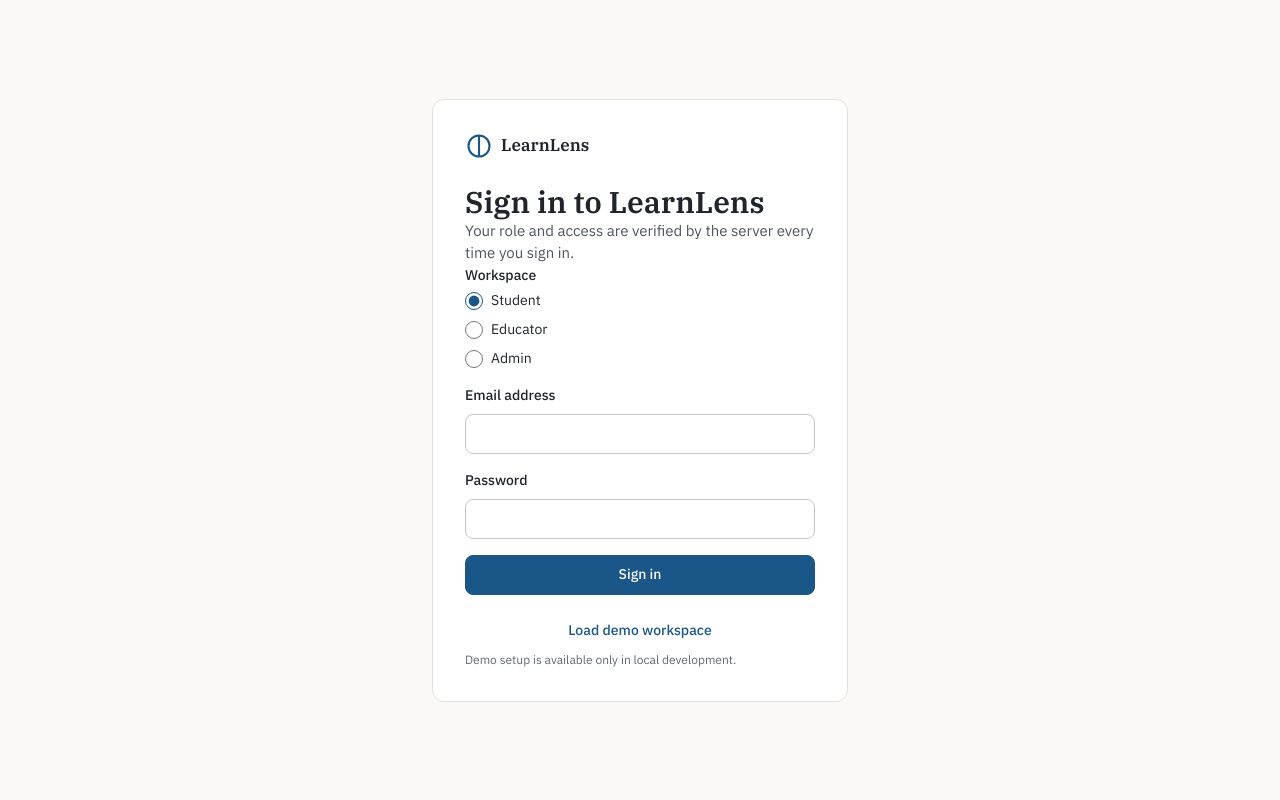
uses loopback bootstrap only after the demo credentials return 401
Click the button "Load demo workspace".
click(640, 630)  # box [465,610,815,650]
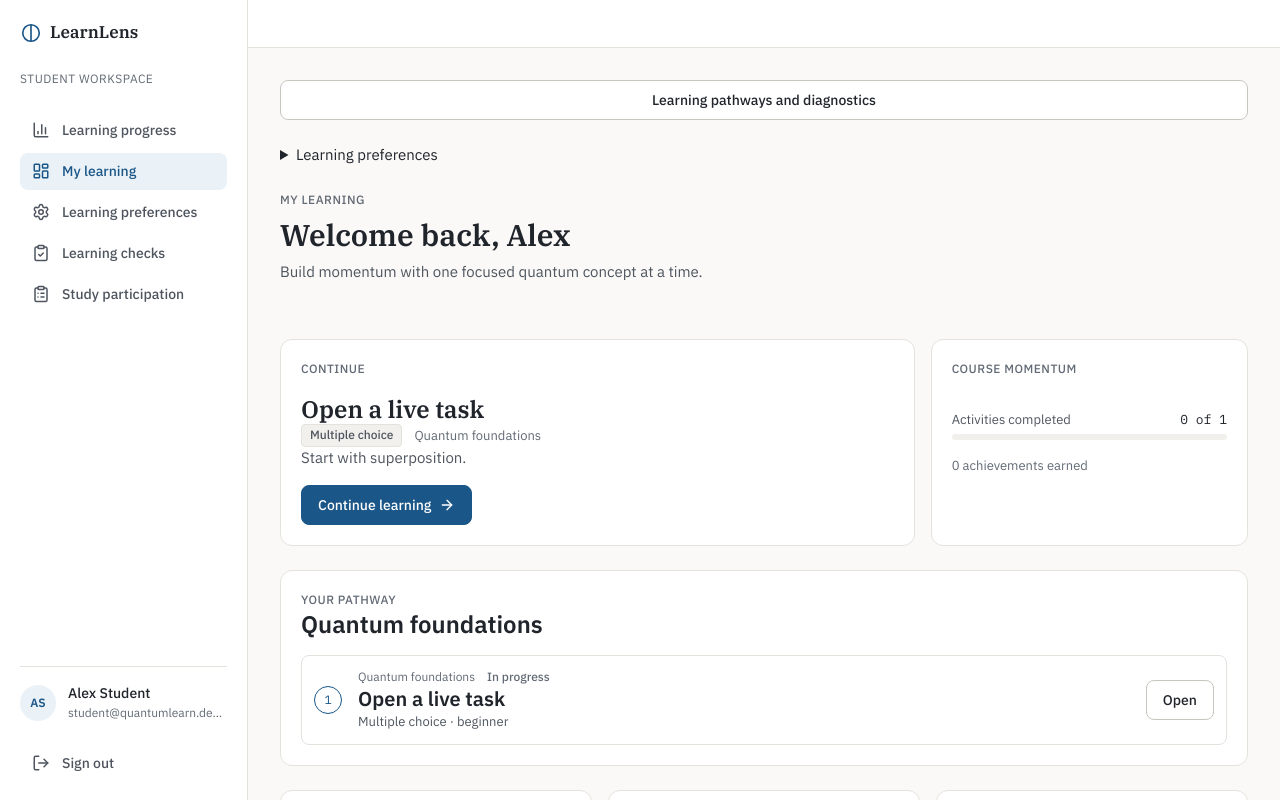
Expected: the heading "Welcome back, Alex" is shown, [280,214,570,254]
